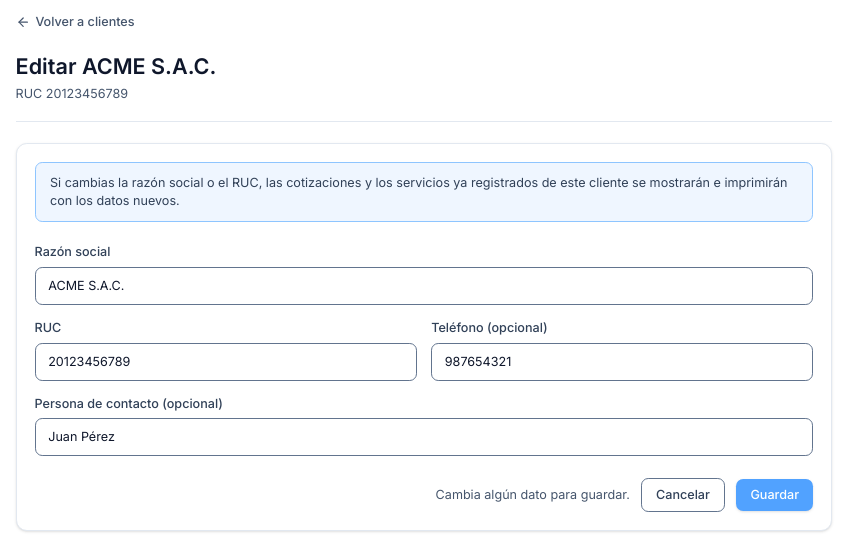
Test case: ClientEditPage › guardar arranca deshabilitado y el primer cambio lo habilita
The image size is (849, 549).
Expected: the button "Guardar" is disabled, [736,479,813,511]
Type "X" into the field labelled "Razón social" at (424, 286), box [35,267,813,305]
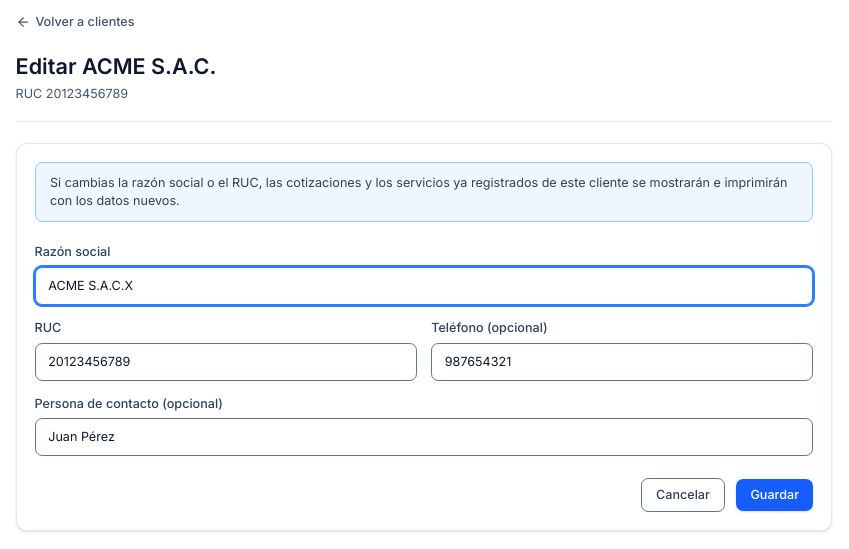
Expected: the button "Guardar" is enabled, [736,479,813,511]
